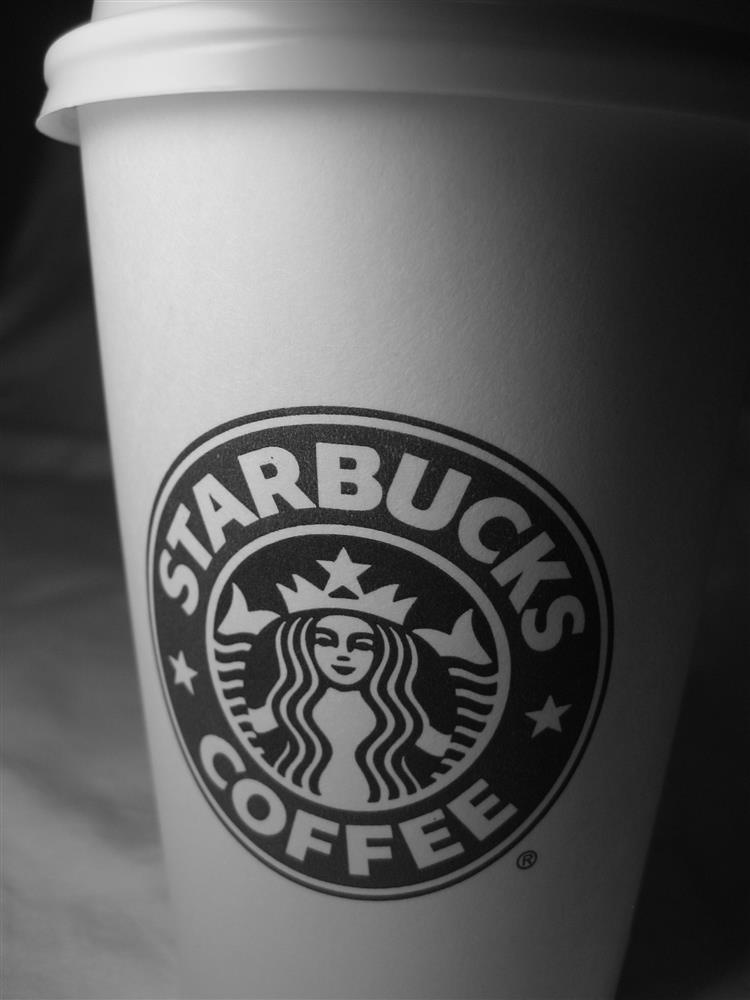starbucks: (134, 400, 628, 894)
